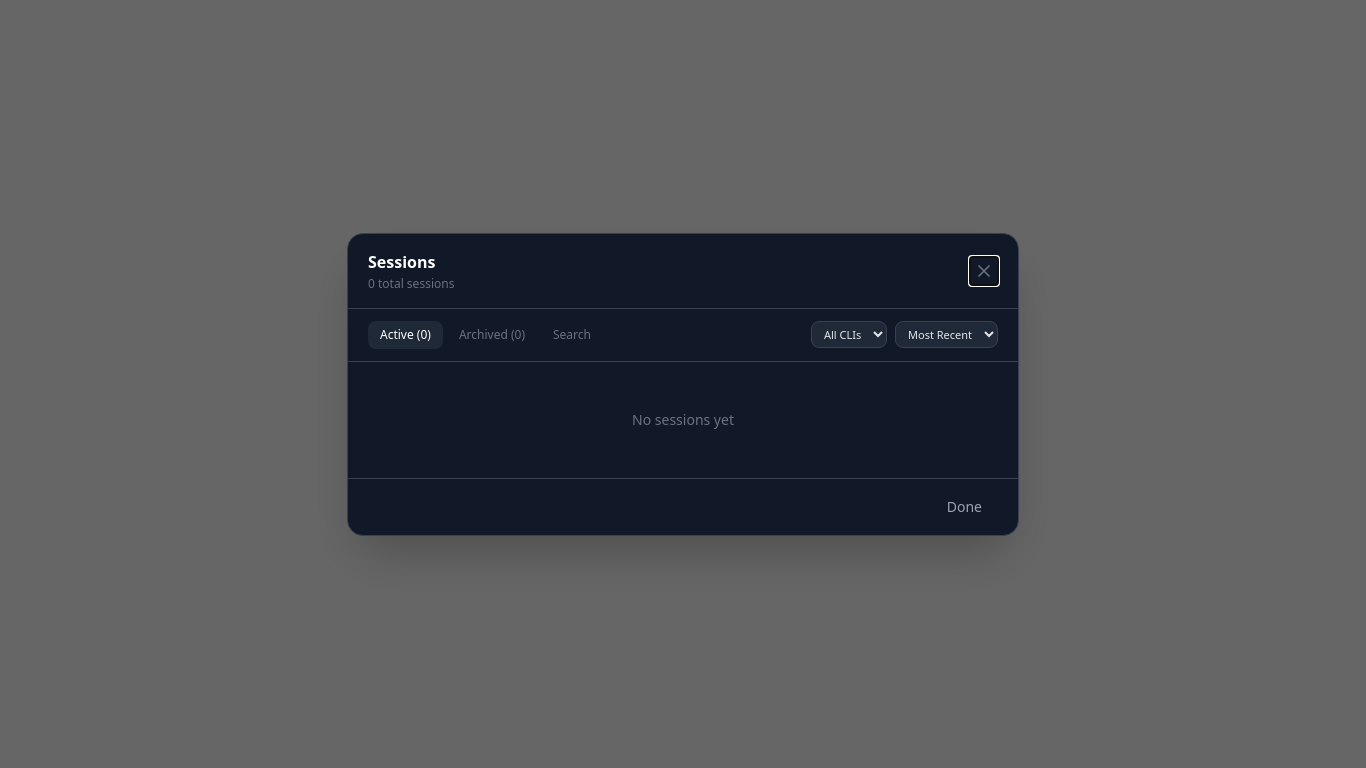
Test: SessionManager › shows search results when cli:search-sessions returns data
Step 1. Click the button "Search" → (572, 334), box [541,320,603,348]
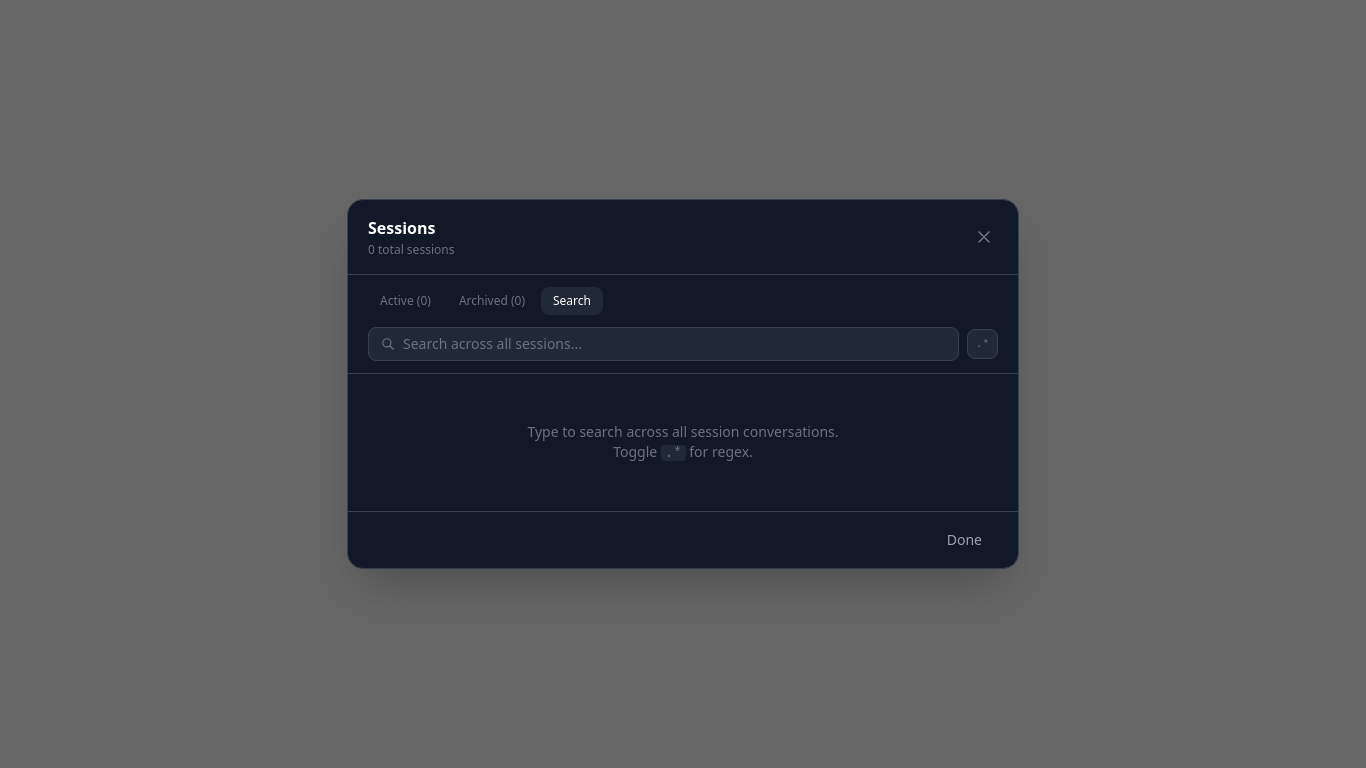
Now the field named "Search sessions" is shown
Step 2. Type "hello" into the field named "Search sessions" → (674, 344), box [403,334,946,354]
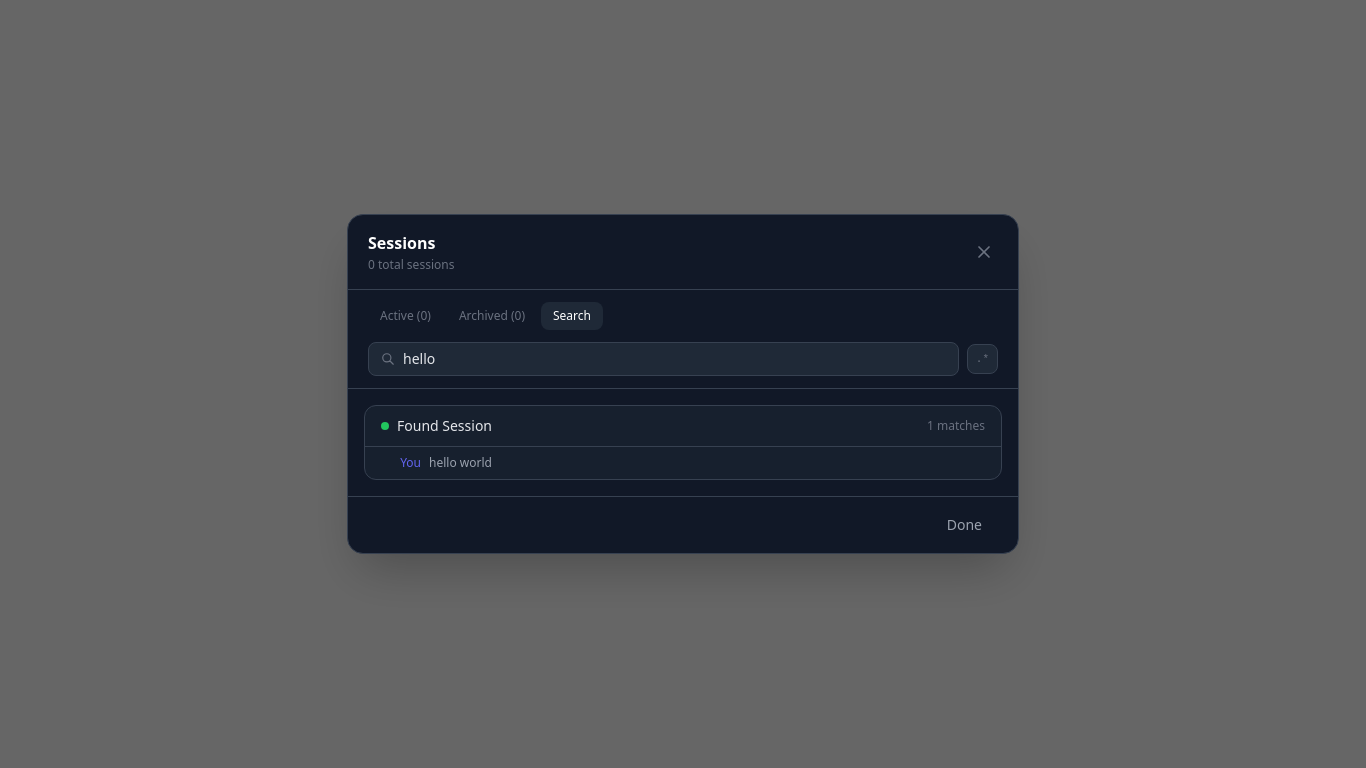
Now the text "Found Session" is shown, box [397,416,492,436]
Now the text "hello world" is shown, box [429,455,492,471]
